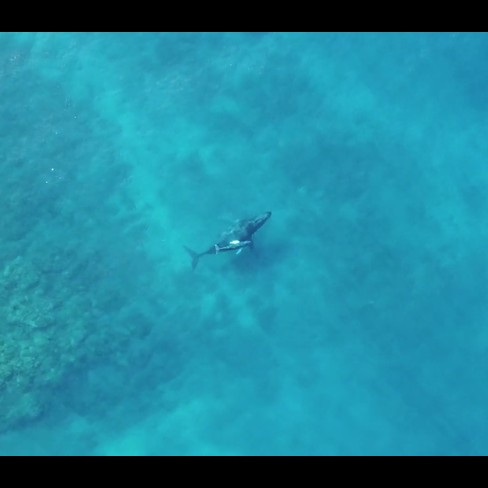hump: (180, 202, 281, 278), (211, 237, 255, 258)
